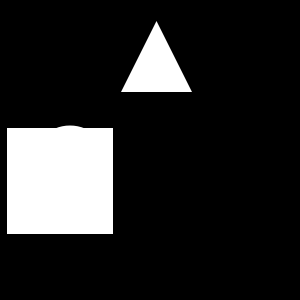circle: (7, 128, 113, 234)
rectangle: (32, 126, 109, 202)
triangle: (121, 21, 192, 92)
